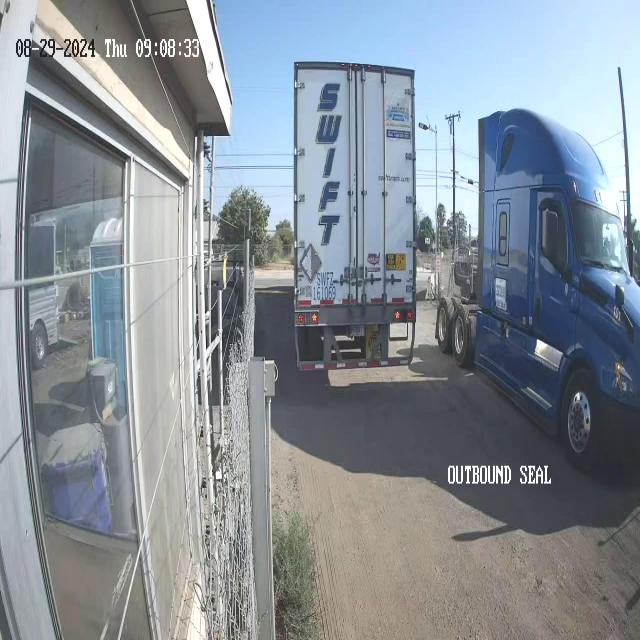BOBTAIL: (435, 106, 639, 464)
TRUCK_CONTAINER: (292, 60, 417, 371)
